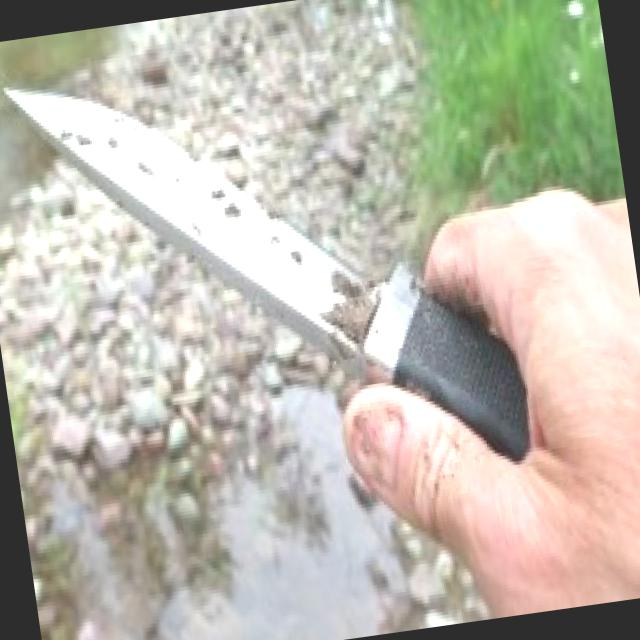knife: (0, 0, 571, 601)
